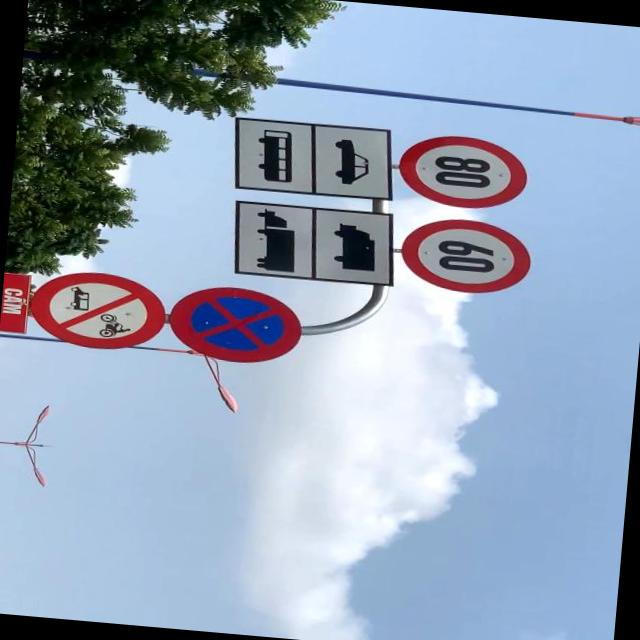P-104: (26, 267, 168, 353)
P-127: (398, 215, 534, 296), (398, 132, 530, 214)
P-130: (165, 280, 305, 364)
